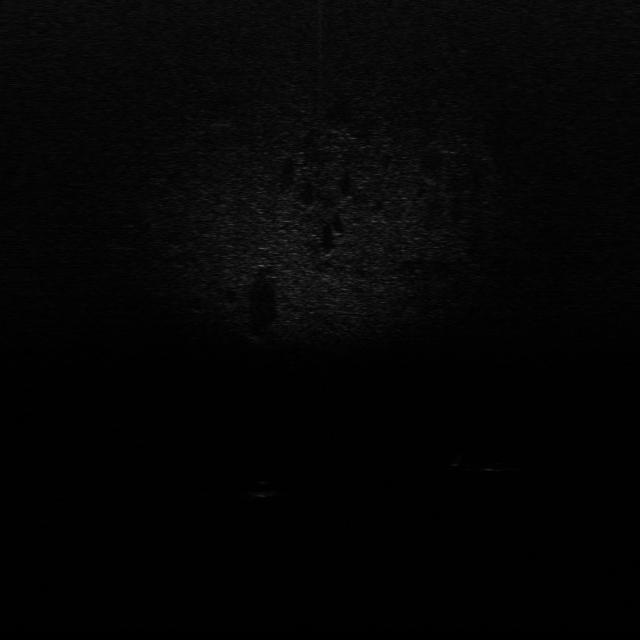ball: (244, 479, 280, 498)
human body: (450, 451, 526, 477)
